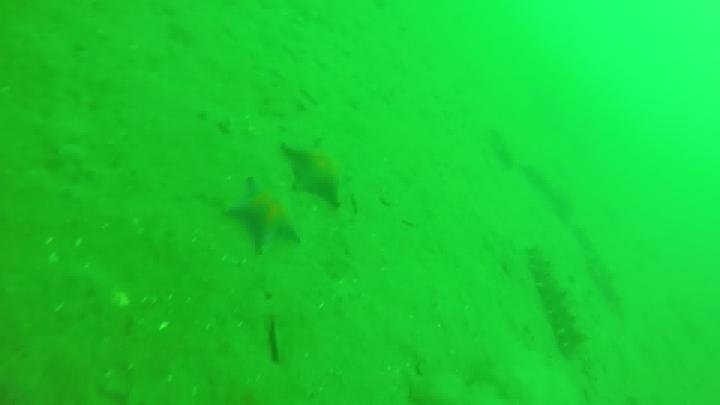holothurian: (523, 245, 590, 359)
starfish: (223, 176, 305, 255), (280, 137, 353, 210)
